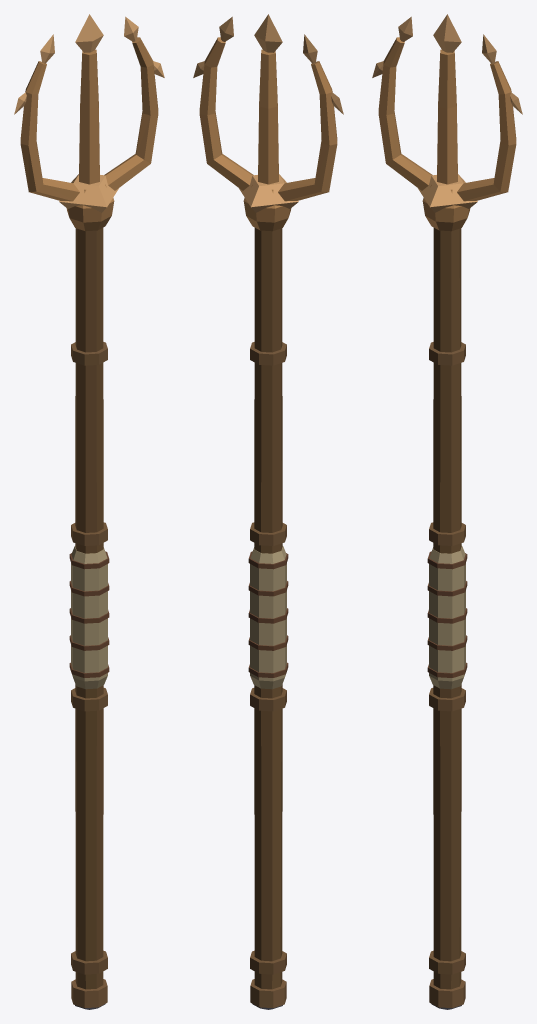
The model's file is weapon_trident_fisher.glb.
3 renders of one model, left to right at view 1: azimuth 30°, elevation 25°; view 2: azimuth 150°, elevation 25°; view 3: azimuth 330°, elevation 25°, orthographic.
Parts seen in each view (by area): view 1: weapon_trident_fisher; view 2: weapon_trident_fisher; view 3: weapon_trident_fisher.
Part boxes in pixels (left/top/right/bottom): weapon_trident_fisher: left=14, top=14, right=164, bottom=1009; weapon_trident_fisher: left=193, top=14, right=343, bottom=1009; weapon_trident_fisher: left=372, top=14, right=522, bottom=1009.
Size of the model in its own units: 0.4199 by 2.65 by 0.1698.
